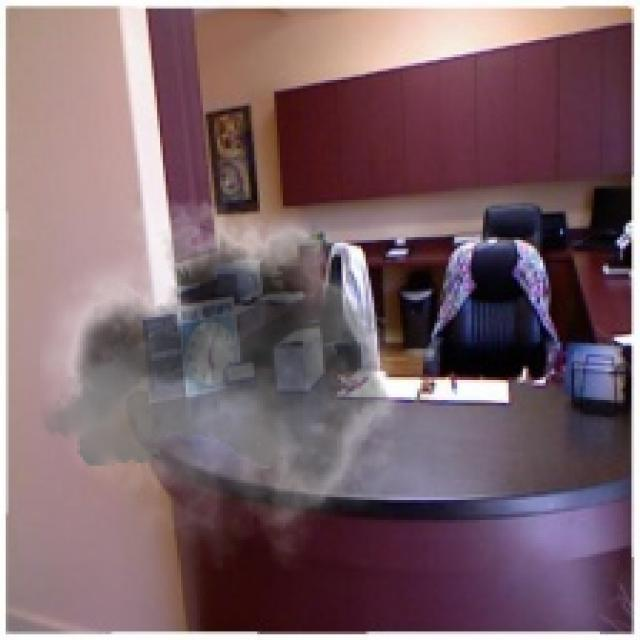Smoke: (40, 179, 420, 572)
